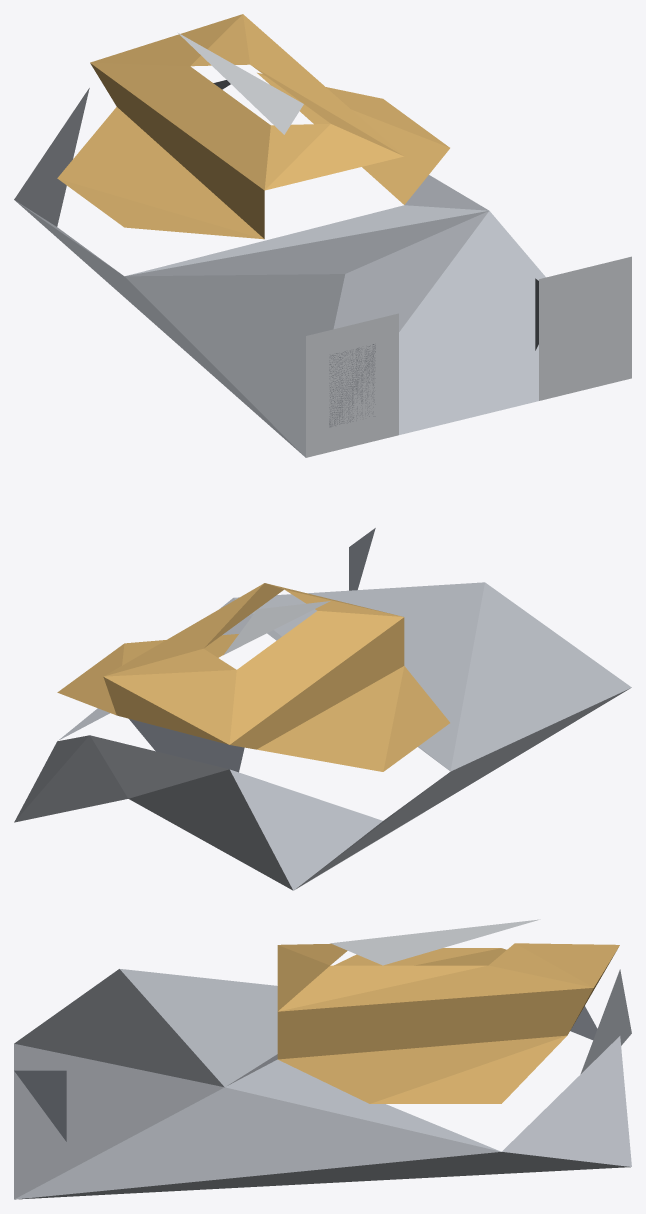
The model's file is craft_cargoB.lod.glb.
The picture shows the model from 3 angles, top to bottom: view 1: azimuth 30°, elevation 25°; view 2: azimuth 150°, elevation 25°; view 3: azimuth 270°, elevation 25°; orthographic projection. The views are drawn at different scales.
Parts seen in each view (by area): view 1: craft_cargoB; view 2: craft_cargoB; view 3: craft_cargoB.
Boxes of the visible parts, left/top/right/bottom form: craft_cargoB: left=14, top=14, right=631, bottom=457; craft_cargoB: left=14, top=528, right=631, bottom=890; craft_cargoB: left=14, top=919, right=631, bottom=1199.
Bounding box in the file's own units: 1.4 × 0.8001 × 2.34.
